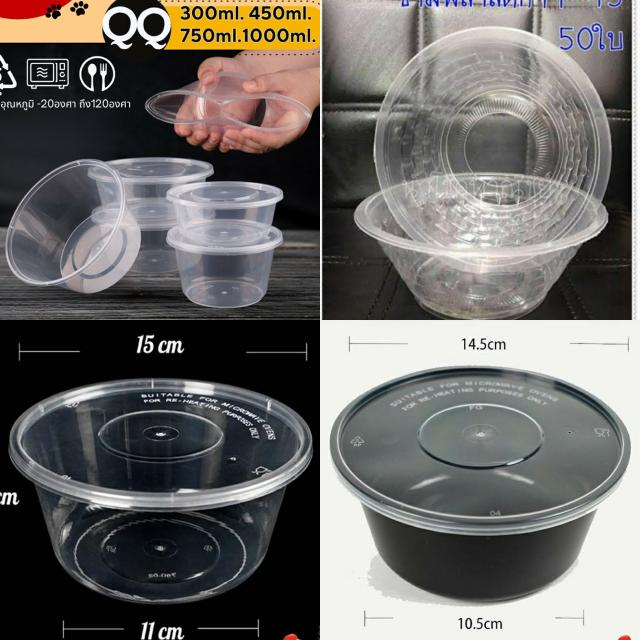Single-Use-Plastic: (330, 368, 630, 599), (10, 379, 312, 604), (374, 26, 611, 249), (355, 174, 608, 319), (6, 160, 140, 292), (168, 219, 282, 308), (145, 71, 311, 132), (166, 181, 282, 246)
